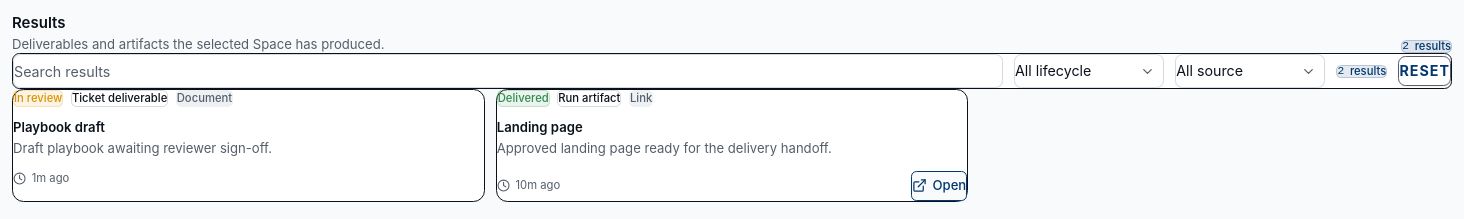
Scenario: filters results by lifecycle, source, and query
This screenshot has width=1464, height=219.
Select "In review" in the dropdown named "lifecycle" at (1089, 71), box x1=1014 y1=54 x2=1164 y2=88
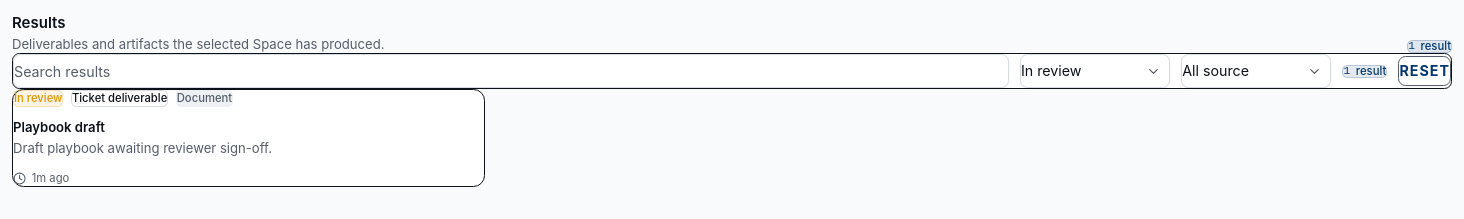
expect the text "Playbook draft" is shown: met, box x1=13 y1=119 x2=105 y2=135
expect the text "Landing page" is gone: met
Select "All lifecycle" in the dropdown named "lifecycle" at (1095, 71), box x1=1020 y1=54 x2=1170 y2=88
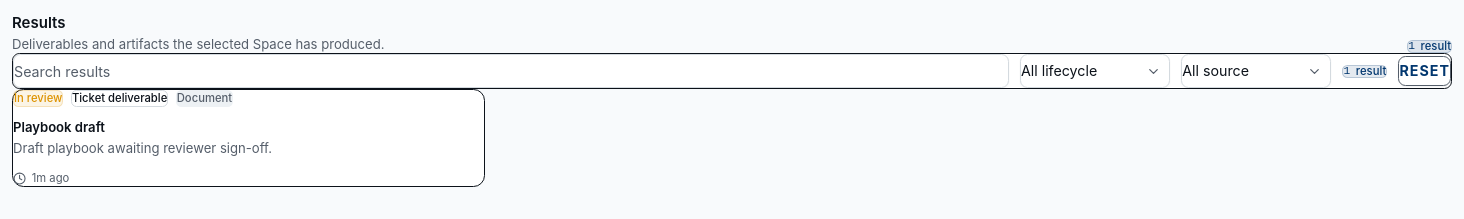
Select "Run artifact" in the dropdown named "source" at (1256, 71), box x1=1181 y1=54 x2=1331 y2=88
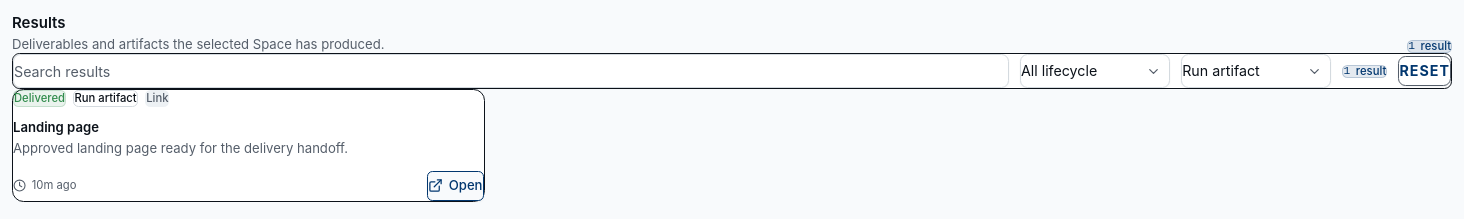
expect the text "Landing page" is shown: met, box x1=13 y1=119 x2=99 y2=135
expect the text "Playbook draft" is gone: met
Select "All source" in the dropdown named "source" at (1256, 71), box x1=1181 y1=54 x2=1331 y2=88
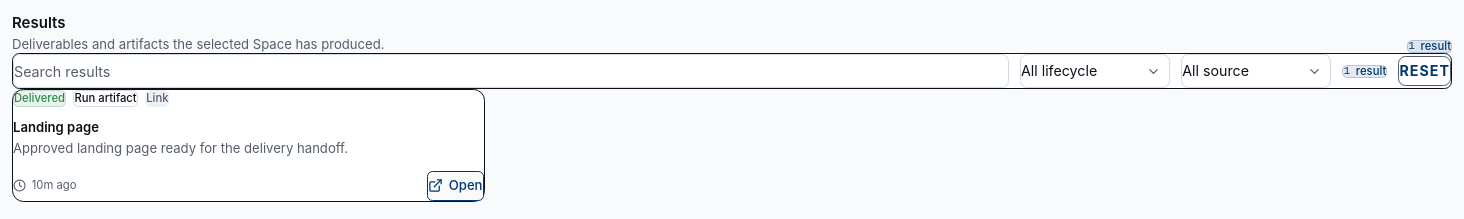
Type "playbook" into the field with placeholder "Search results" at (511, 71), box x1=13 y1=54 x2=1009 y2=88
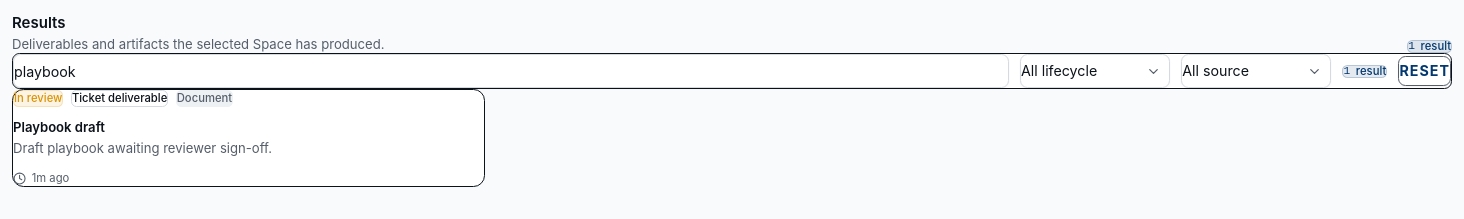
expect the text "Playbook draft" is shown: met, box x1=13 y1=119 x2=105 y2=135
expect the text "Landing page" is gone: met
